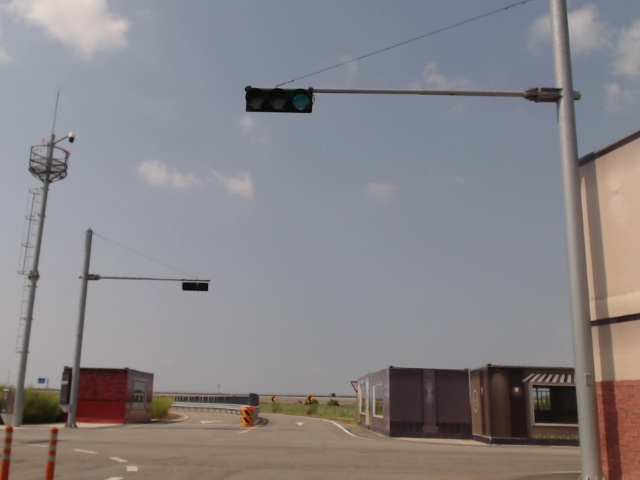green_3: (245, 87, 313, 114)
